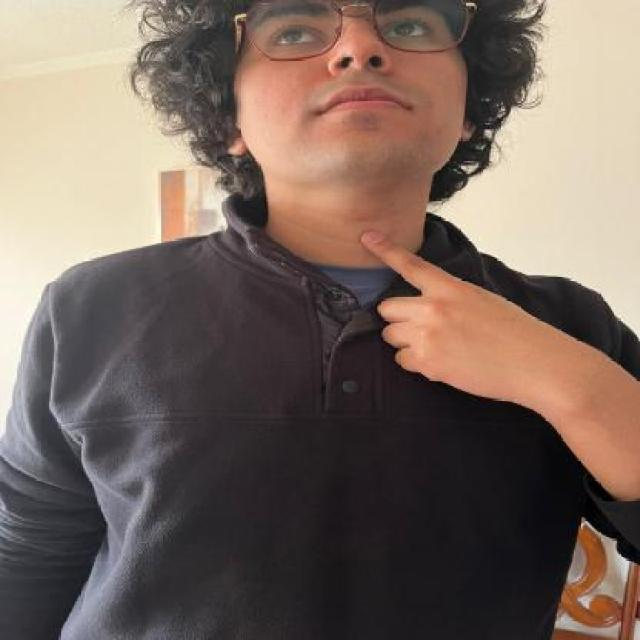Q: (320, 206, 594, 420)
